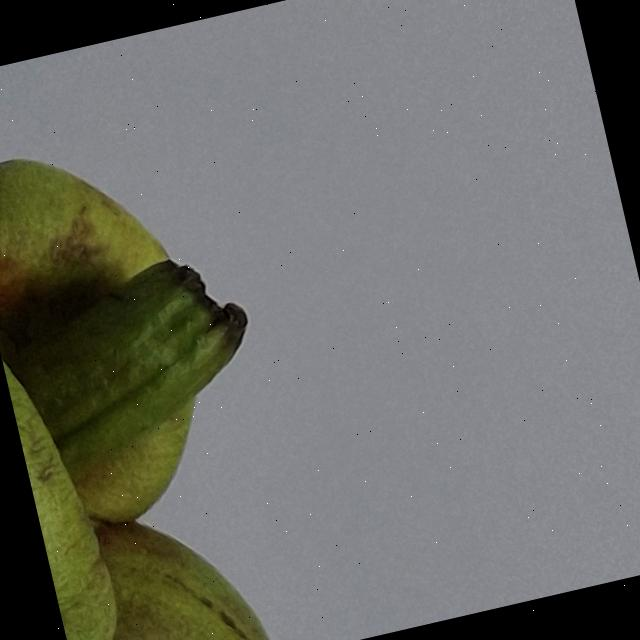mangosteen: (0, 7, 397, 640)
